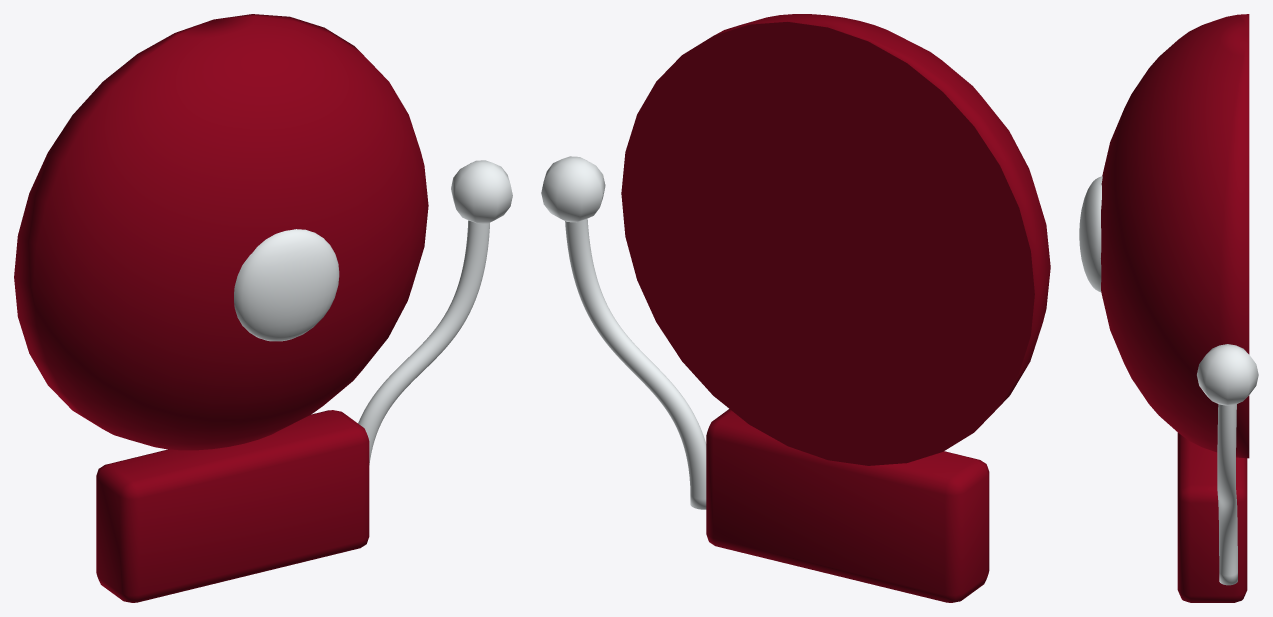
The model's file is Siren-Ep2.fbx.
3 views of the same model, side by side, from view 1: azimuth 30°, elevation 25°; view 2: azimuth 150°, elevation 25°; view 3: azimuth 270°, elevation 25° (orthographic). The views are drawn at different scales.
Parts seen in each view (by area): view 1: Siren; view 2: Siren; view 3: Siren.
Boxes of the visible parts, x1=… form: Siren: x1=14, y1=14, x2=512, y2=602; Siren: x1=541, y1=14, x2=1050, y2=602; Siren: x1=1079, y1=14, x2=1258, y2=602.
Size of the model in its own units: 280 by 295 by 93.03.
